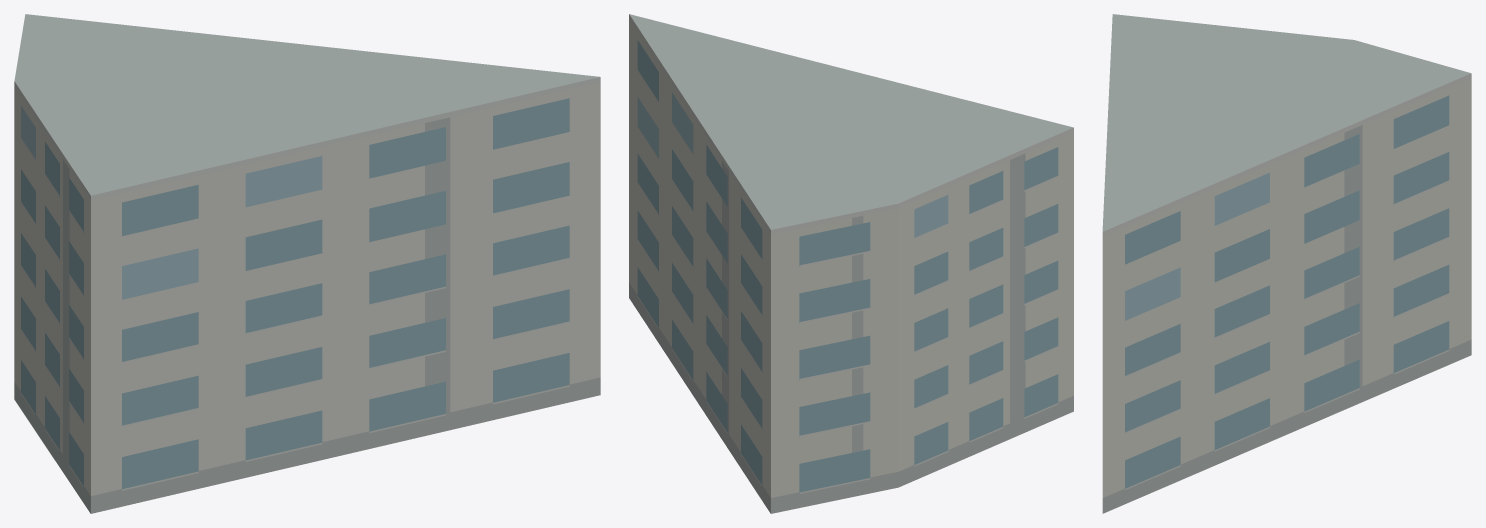
Rendered from survey-upis-32774010.glb.
3 views of the same model, side by side, from view 1: azimuth 30°, elevation 25°; view 2: azimuth 150°, elevation 25°; view 3: azimuth 270°, elevation 25° (orthographic). The views are drawn at different scales.
Visible parts, largest first — view 1: survey-upis-32774010.tmp; view 2: survey-upis-32774010.tmp; view 3: survey-upis-32774010.tmp.
Boxes of the visible parts, x1,y1,x2,y2 form: survey-upis-32774010.tmp: [14, 14, 600, 513]; survey-upis-32774010.tmp: [629, 14, 1073, 513]; survey-upis-32774010.tmp: [1102, 14, 1471, 513].
Bounding box in the file's own units: 24.05 × 14.5 × 17.21.
